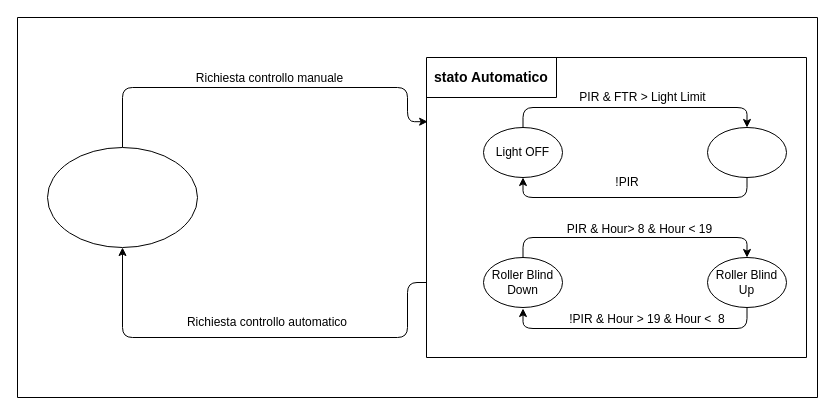
Image size: 835x415. Some labels were removed from this diagram. The shapes that lost their labels are listed below. From the top down, each one's centre as x and y in pixels, then its label:
(x=746, y=152): Light ON
(x=122, y=197): Stato Manuale
